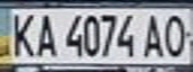0: (81, 10, 103, 57)
4: (115, 10, 142, 58), (60, 10, 84, 57)
7: (97, 10, 118, 58)
A: (30, 10, 60, 58), (139, 11, 169, 58)
K: (3, 9, 39, 60)
O: (160, 10, 193, 58)
